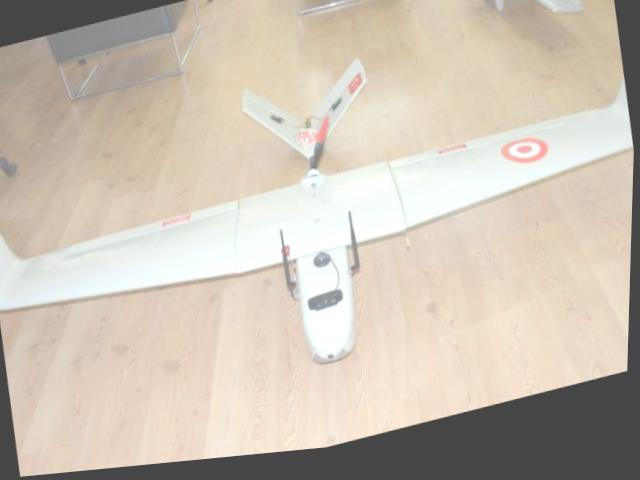iha: (0, 0, 639, 441)
